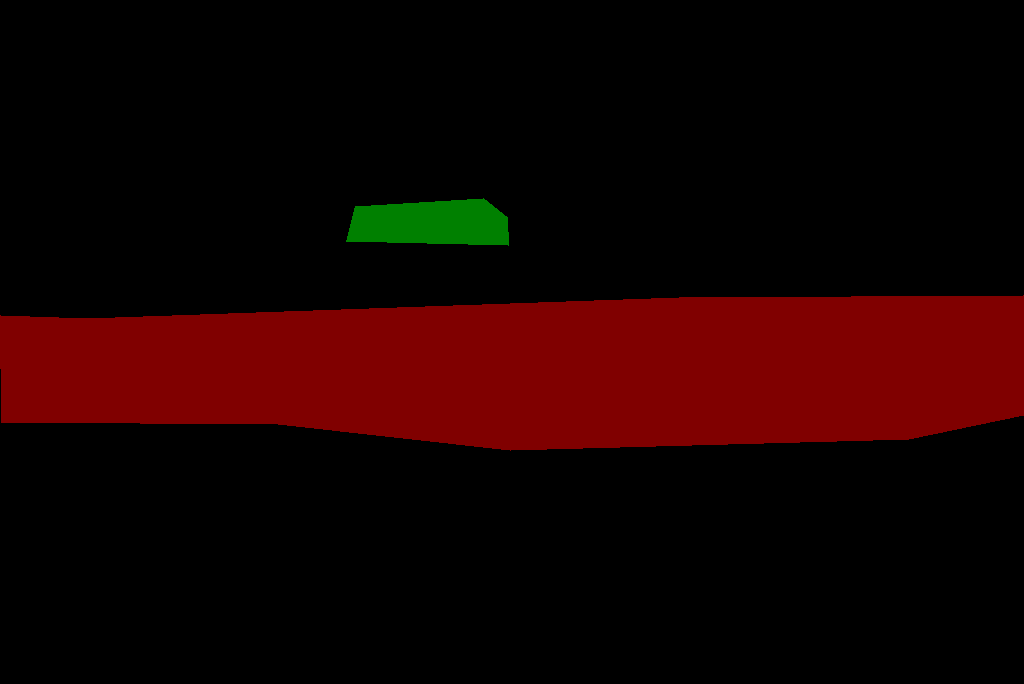fire: (0, 295, 1023, 450), (346, 198, 508, 245)
